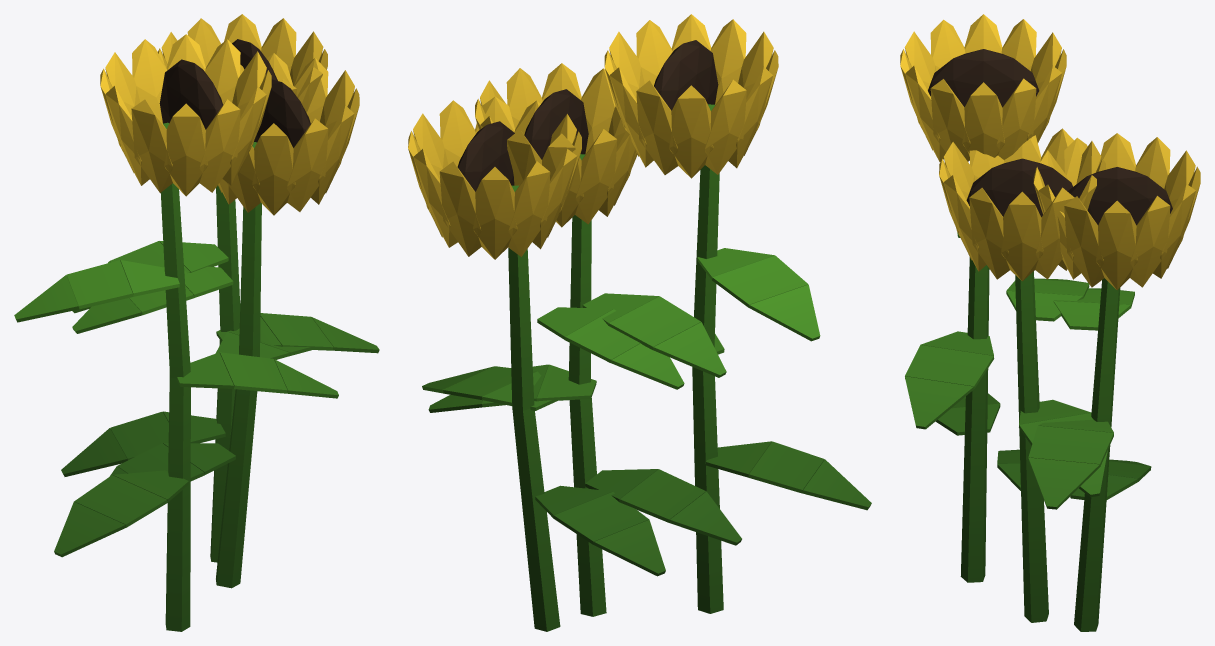
Rendered from flower_sunflower_01.fbx.
The picture shows the model from 3 angles, left to right: view 1: azimuth 30°, elevation 25°; view 2: azimuth 150°, elevation 25°; view 3: azimuth 270°, elevation 25°; orthographic projection. The views are drawn at different scales.
Visible parts, largest first — view 1: flower_sunflower_01_LOD0; view 2: flower_sunflower_01_LOD0; view 3: flower_sunflower_01_LOD0.
Part boxes in pixels (x1,y1,x2,y2): flower_sunflower_01_LOD0: (14, 14, 379, 631); flower_sunflower_01_LOD0: (408, 14, 871, 631); flower_sunflower_01_LOD0: (900, 14, 1200, 631).
Size of what is drawn, in the model's own units: 0.9178 by 1.28 by 0.643.
1 material, 1 textured.
